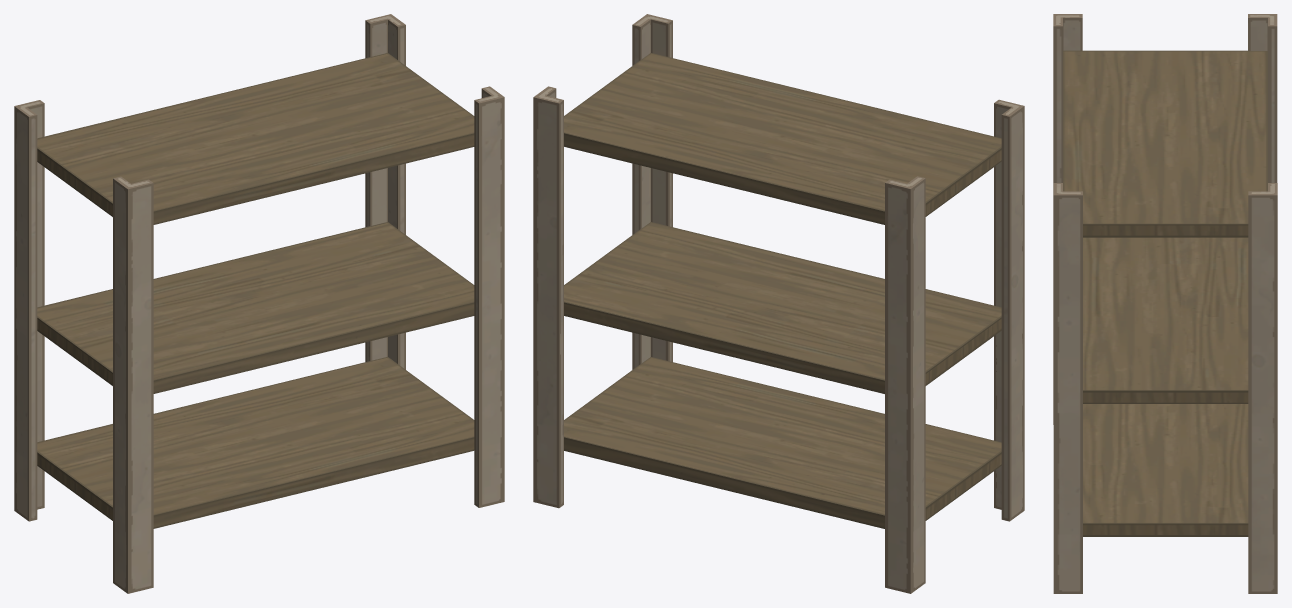
File: SM_kitchen_rack_01.glb
3 views of the same model, side by side, from view 1: azimuth 30°, elevation 25°; view 2: azimuth 150°, elevation 25°; view 3: azimuth 270°, elevation 25° (orthographic).
Visible parts, largest first — view 1: SM_kitchen_rack_01; view 2: SM_kitchen_rack_01; view 3: SM_kitchen_rack_01.
Boxes of the visible parts, x1,y1,x2,y2 form: SM_kitchen_rack_01: (14, 14, 504, 593); SM_kitchen_rack_01: (533, 14, 1024, 593); SM_kitchen_rack_01: (1053, 14, 1277, 593).
Bounding box in the file's own units: 2.93 × 3 × 1.53.
Materials: 2 (2 with a texture image).
